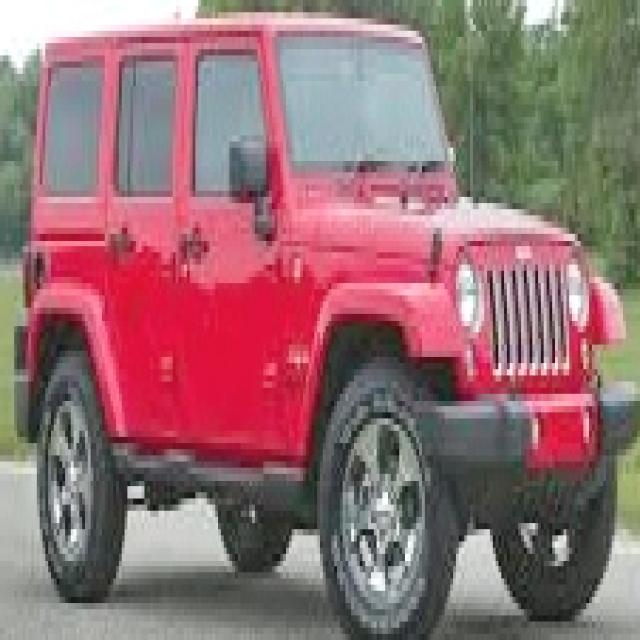red: (8, 18, 636, 591)
